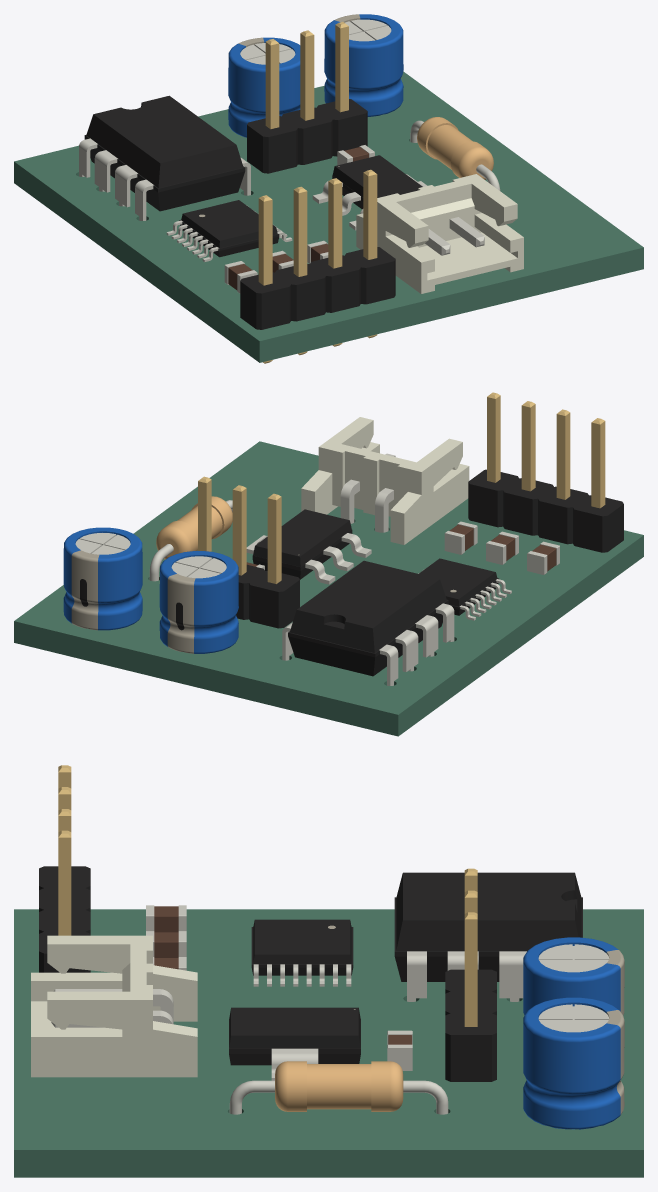
File: miniZ.glb
3 renders of one model, top to bottom at view 1: azimuth 30°, elevation 25°; view 2: azimuth 150°, elevation 25°; view 3: azimuth 270°, elevation 25°, orthographic. The views are drawn at different scales.
Visible parts, largest first — view 1: =>[0:1:1:11], U1, J1, U3, M2, C6, C5, U2, R1, U4, C1; view 2: =>[0:1:1:11], U1, J1, U3, C6, C5, M2, U4, U2, R1, C3, C1 (+1 smaller); view 3: =>[0:1:1:11], U3, U1, C6, R1, U4, M2, U2, C5, J1, C1, C4 (+1 smaller).
Part boxes in pixels (left/top/right/bottom): =>[0:1:1:11]: left=14, top=71, right=643, bottom=362; U1: left=79, top=95, right=250, bottom=220; J1: left=240, top=169, right=395, bottom=363; U3: left=356, top=174, right=523, bottom=293; M2: left=247, top=22, right=367, bottom=173; C6: left=324, top=14, right=403, bottom=116; C5: left=228, top=37, right=300, bottom=137; U2: left=166, top=200, right=292, bottom=262; R1: left=410, top=117, right=500, bottom=190; U4: left=312, top=155, right=427, bottom=230; C1: left=224, top=261, right=257, bottom=293; =>[0:1:1:11]: left=14, top=441, right=643, bottom=736; U1: left=282, top=560, right=454, bottom=685; J1: left=468, top=392, right=623, bottom=552; U3: left=301, top=417, right=469, bottom=544; C6: left=63, top=527, right=142, bottom=630; C5: left=159, top=551, right=238, bottom=653; M2: left=198, top=476, right=299, bottom=628; U4: left=246, top=509, right=371, bottom=584; U2: left=418, top=558, right=511, bottom=620; R1: left=149, top=496, right=232, bottom=581; C3: left=444, top=521, right=477, bottom=554; C1: left=527, top=541, right=559, bottom=574; =>[0:1:1:11]: left=14, top=909, right=643, bottom=1177; U3: left=31, top=935, right=197, bottom=1077; U1: left=394, top=872, right=582, bottom=1001; C6: left=523, top=997, right=624, bottom=1129; R1: left=229, top=1061, right=448, bottom=1114; U4: left=229, top=1007, right=360, bottom=1080; M2: left=445, top=868, right=496, bottom=1081; U2: left=251, top=919, right=353, bottom=986; C5: left=523, top=937, right=624, bottom=1015; J1: left=39, top=765, right=90, bottom=972; C1: left=146, top=905, right=186, bottom=932; C4: left=387, top=1030, right=412, bottom=1070.
Size of the model in its own units: 0.028 by 0.0118 by 0.031.
